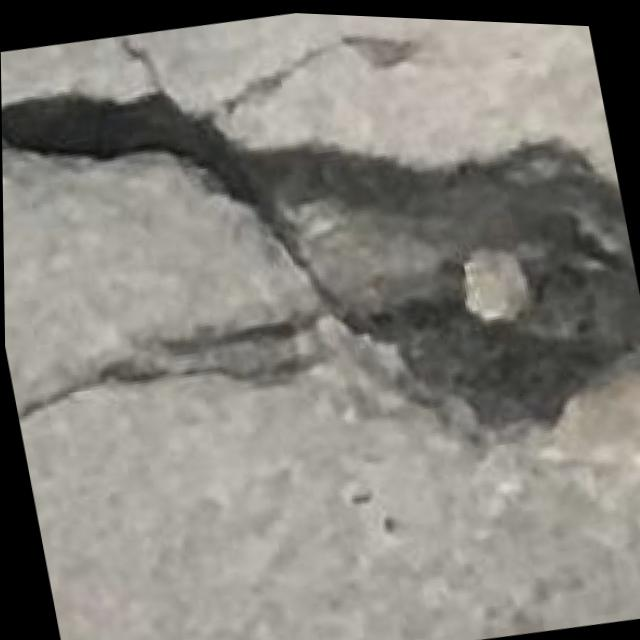Crack: (0, 0, 640, 487)
